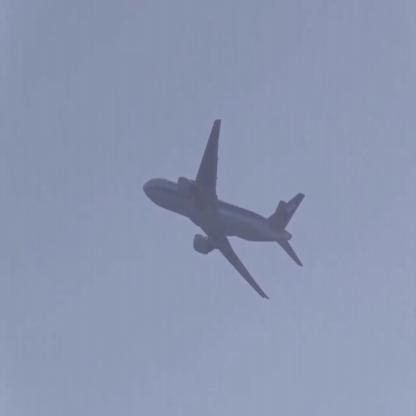CIV_Plane: (141, 118, 313, 299)
